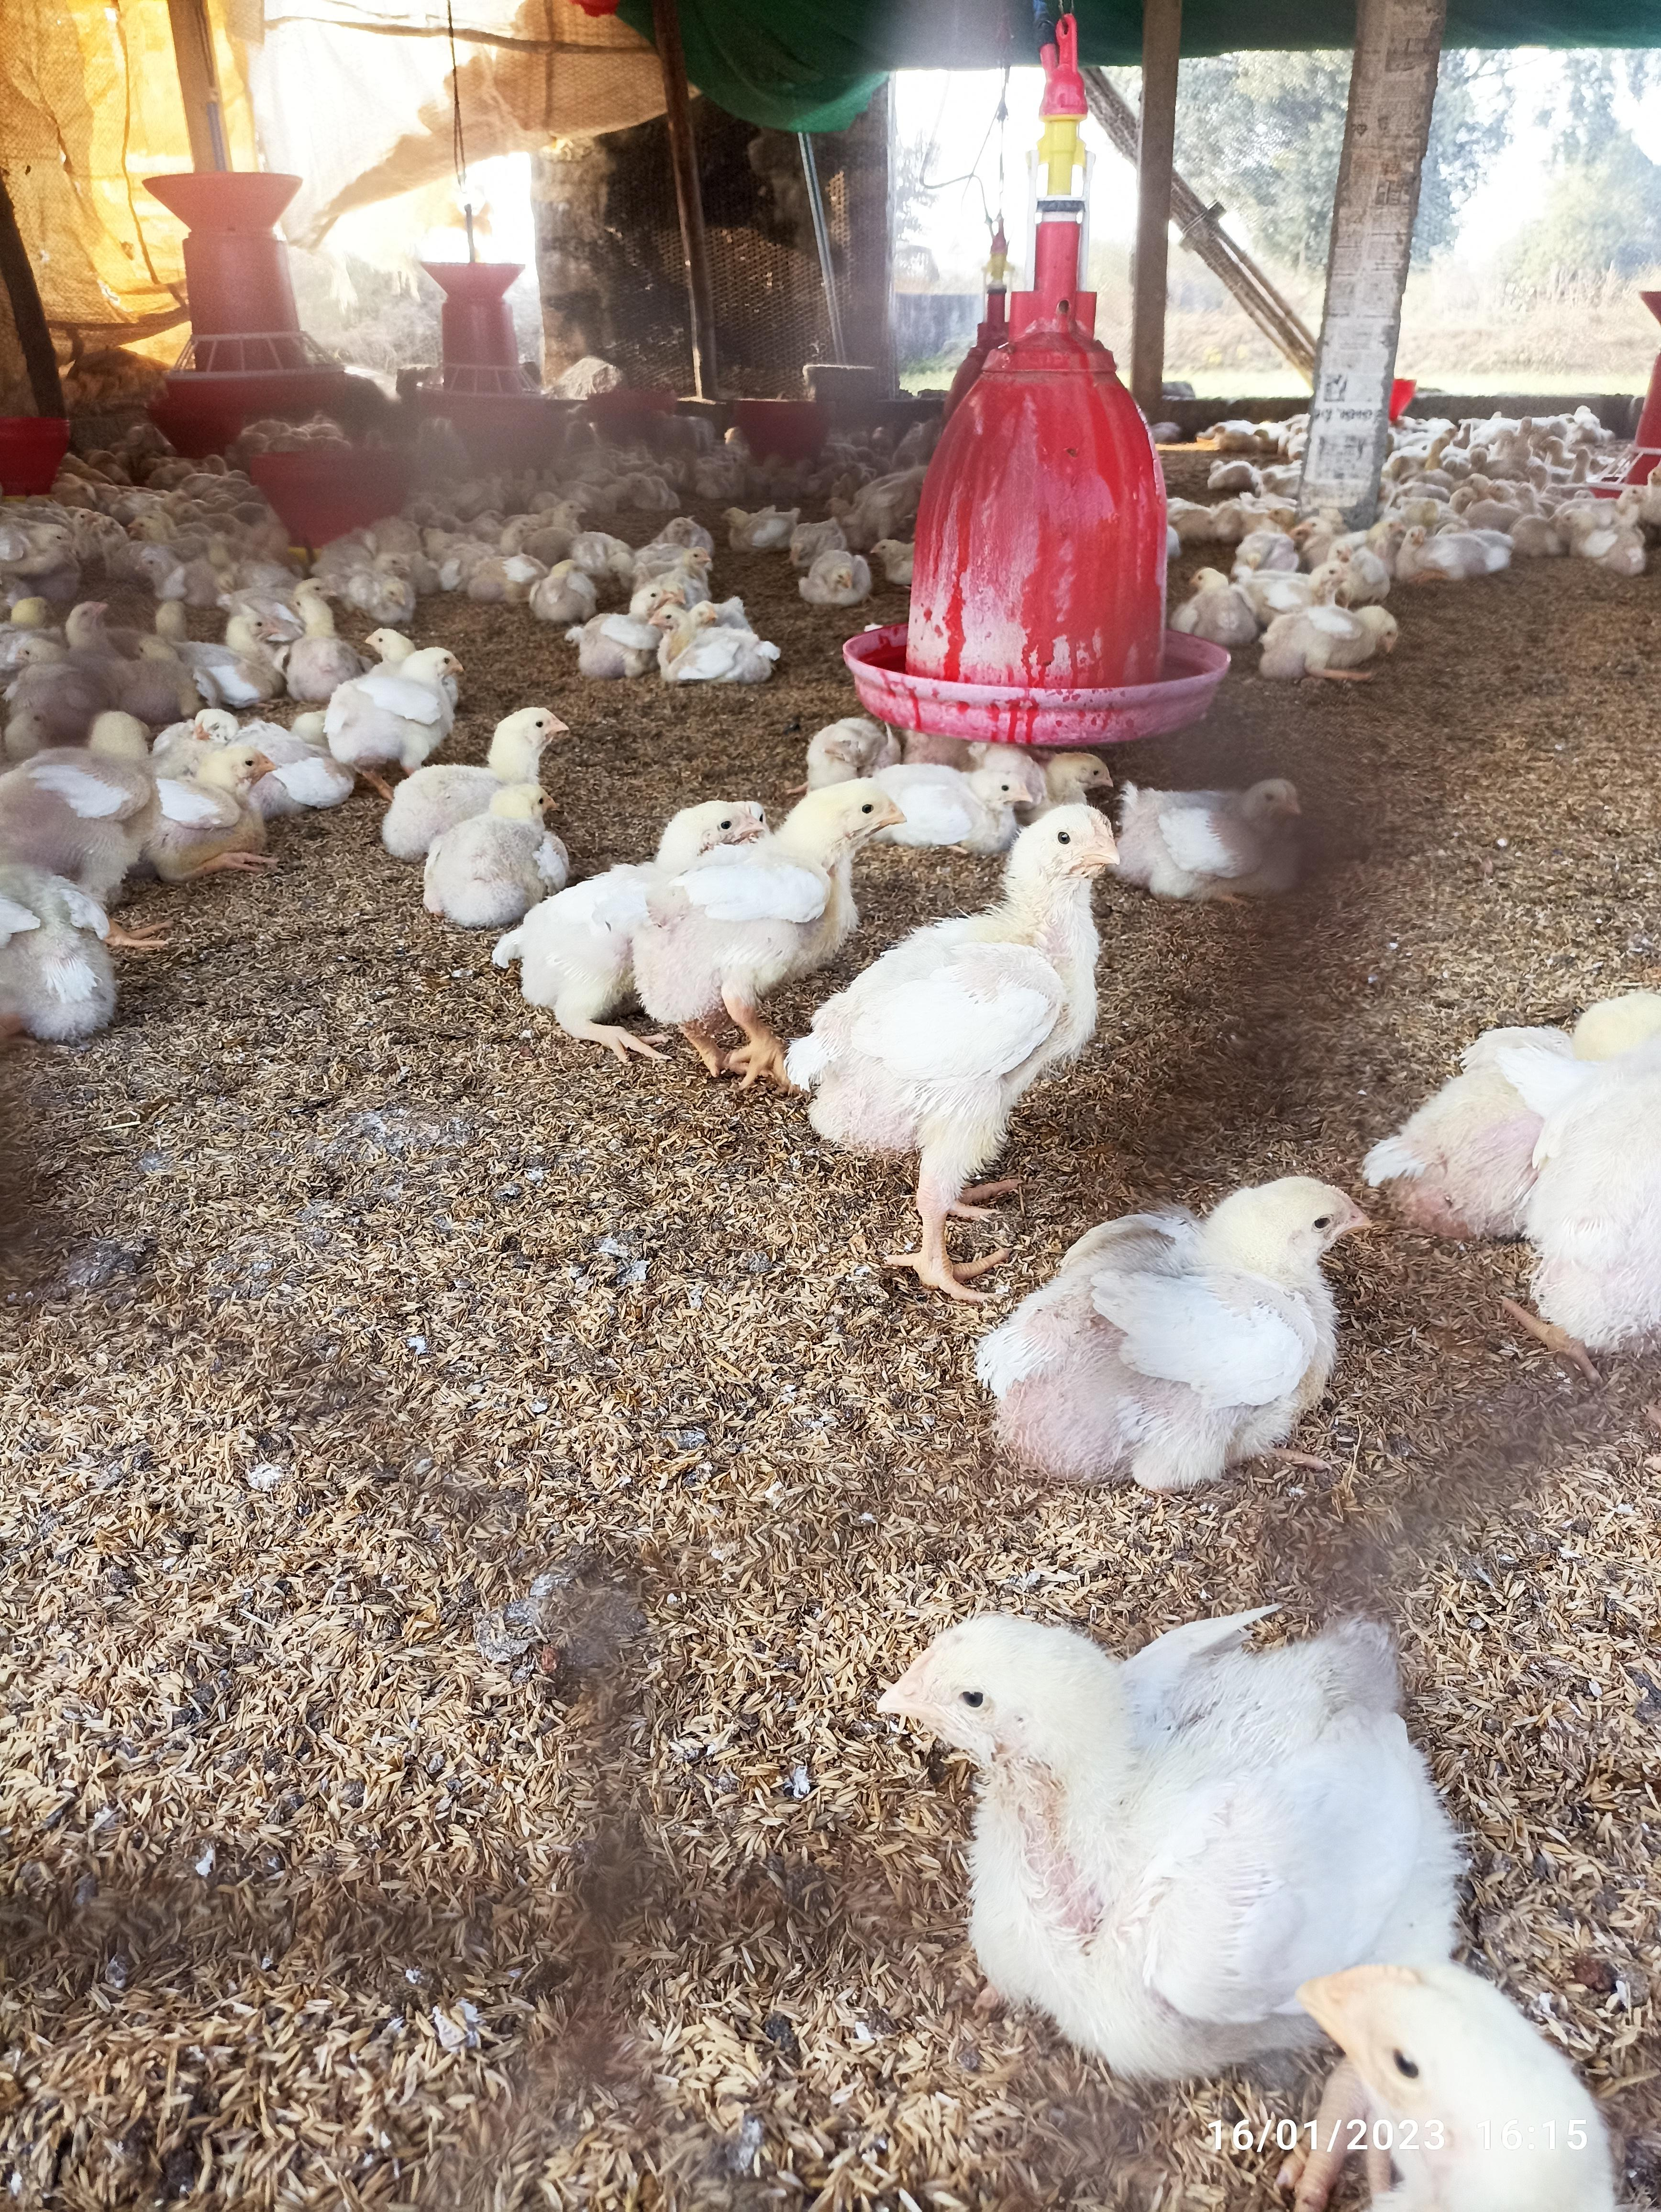Pollos: (883, 1612, 1473, 1959), (974, 1171, 1378, 1483), (808, 799, 1104, 1164), (569, 792, 752, 1001), (1125, 773, 1296, 883), (141, 743, 267, 877), (440, 782, 557, 907), (335, 645, 461, 762), (1274, 600, 1405, 679), (181, 612, 284, 696), (914, 768, 1026, 844), (651, 609, 776, 677), (569, 583, 663, 670), (28, 604, 115, 689), (476, 700, 557, 789), (1399, 523, 1516, 583), (1569, 492, 1651, 570), (1176, 565, 1254, 644), (340, 550, 424, 621), (1286, 515, 1392, 567), (1251, 556, 1347, 612), (129, 541, 216, 602), (295, 572, 332, 689), (801, 551, 869, 602), (640, 544, 712, 590), (719, 502, 794, 543)
